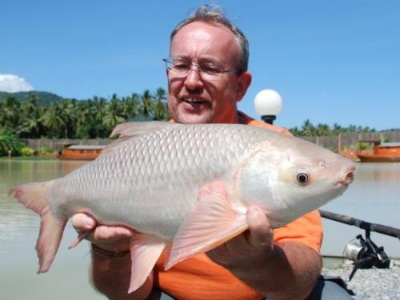rohu: (13, 104, 370, 291)
